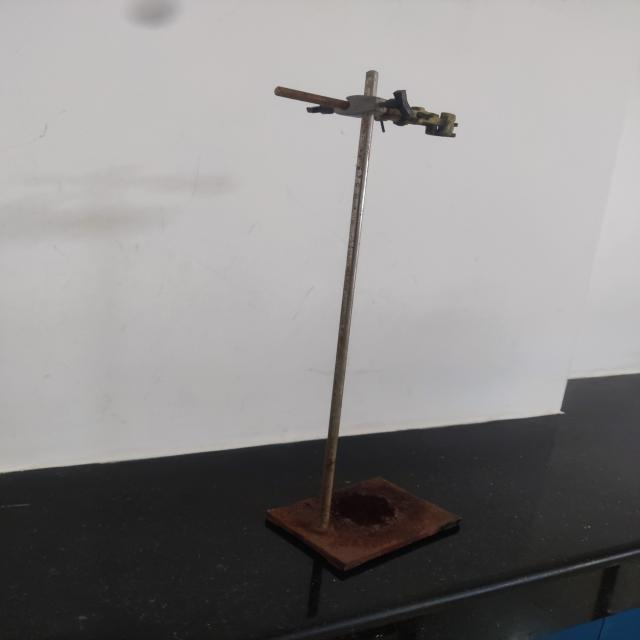Burette_Stands: (239, 46, 495, 598)
